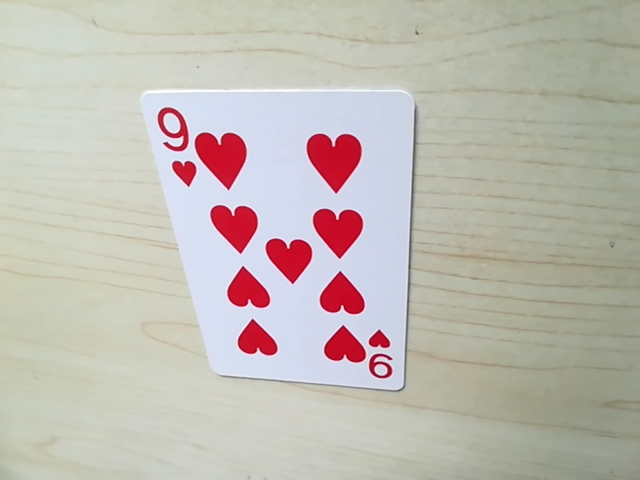hx 9: (152, 99, 192, 154), (360, 334, 399, 388)
